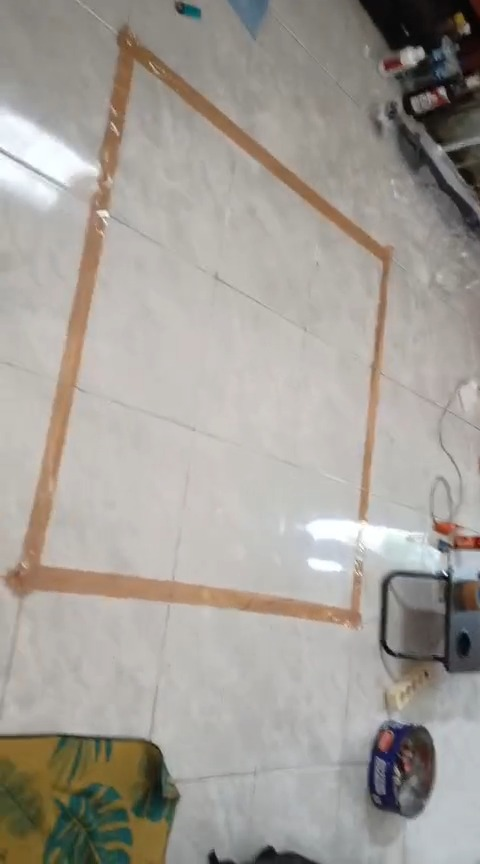floor marking: (7, 27, 392, 627)
